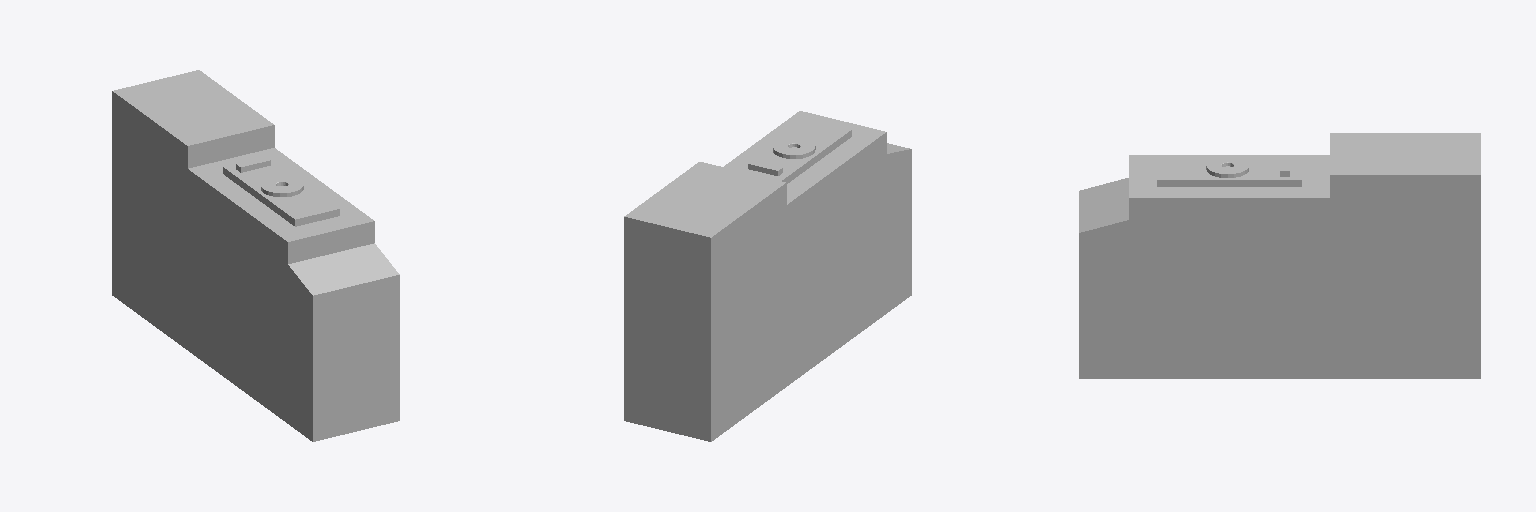
File: module_switch_pin.obj
3 renders of one model, left to right at view 1: azimuth 30°, elevation 25°; view 2: azimuth 150°, elevation 25°; view 3: azimuth 270°, elevation 25°, orthographic.
Visible parts, largest first — view 1: module_switch_pin; view 2: module_switch_pin; view 3: module_switch_pin.
Boxes of the visible parts, x1=… form: module_switch_pin: x1=112, y1=70, x2=399, y2=441; module_switch_pin: x1=624, y1=111, x2=911, y2=441; module_switch_pin: x1=1079, y1=133, x2=1480, y2=378.
Bounding box in the file's own units: 0.25 × 0.5623 × 1.